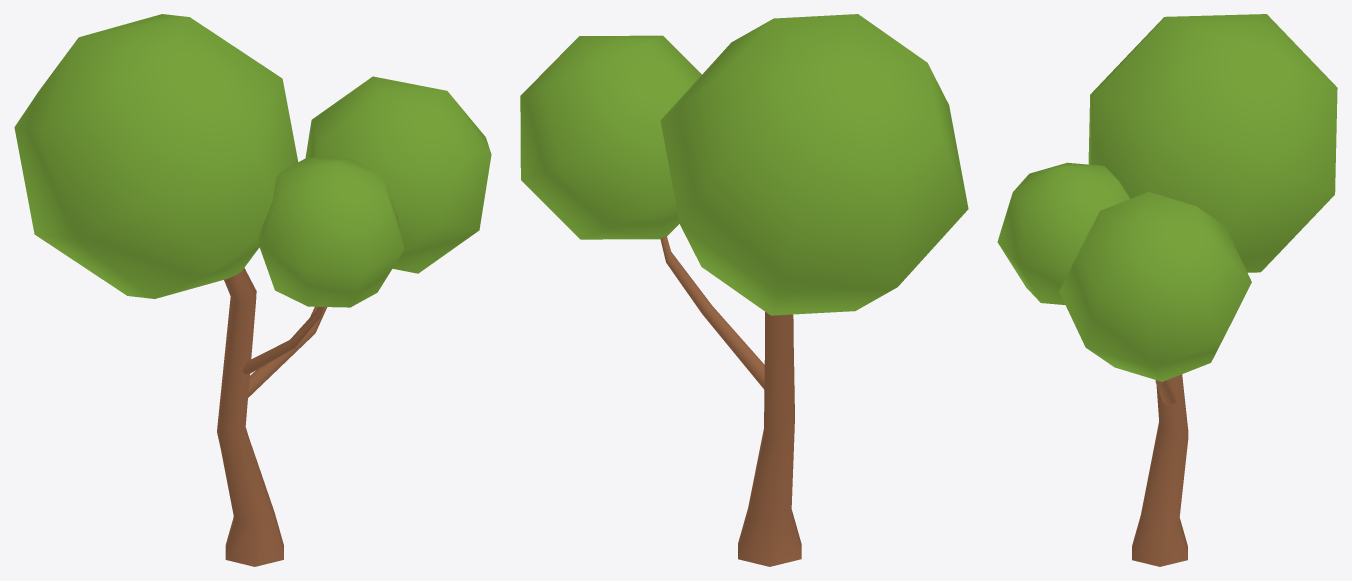
File: Tree3.glb
The picture shows the model from 3 angles, left to right: view 1: azimuth 30°, elevation 25°; view 2: azimuth 150°, elevation 25°; view 3: azimuth 270°, elevation 25°; orthographic projection. The views are drawn at different scales.
Visible parts, largest first — view 1: tree_3; view 2: tree_3; view 3: tree_3.
Boxes of the visible parts, <box> form: tree_3: <box>14,14,491,566</box>; tree_3: <box>520,14,968,566</box>; tree_3: <box>997,14,1337,566</box>.
Size of the model in its own units: 1.77 by 2.15 by 1.33.
Materials: 1 (1 with a texture image).
